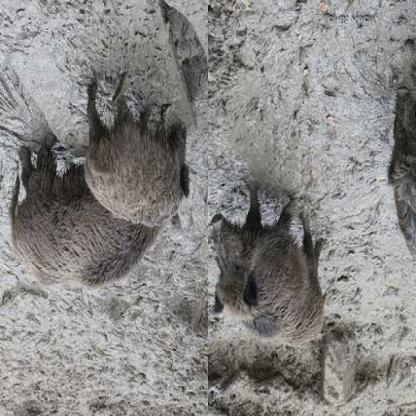boar: (208, 198, 340, 374), (57, 80, 205, 232), (0, 159, 142, 308)
